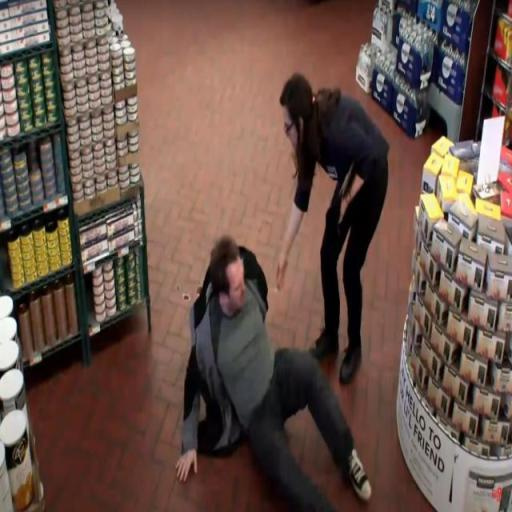Fall: (173, 233, 370, 512)
